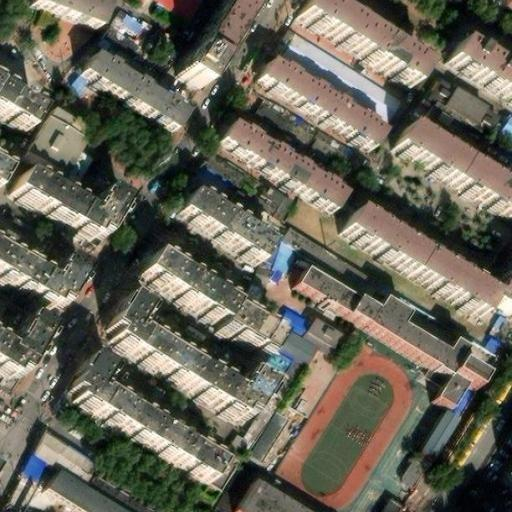building: (98, 293, 270, 423), (62, 359, 224, 485), (334, 202, 512, 312), (337, 297, 474, 405), (213, 121, 345, 215), (388, 125, 512, 225), (254, 59, 380, 152), (291, 0, 421, 87), (285, 34, 401, 120), (394, 386, 470, 492), (3, 165, 117, 234), (77, 52, 182, 126), (132, 249, 231, 324), (170, 189, 266, 261), (176, 0, 252, 90), (25, 113, 90, 183), (0, 246, 81, 302), (444, 41, 512, 104), (215, 303, 276, 356), (0, 312, 46, 377), (95, 3, 149, 57), (32, 434, 90, 482), (290, 267, 349, 313), (45, 476, 113, 512), (248, 415, 287, 464), (189, 154, 232, 197), (0, 87, 39, 134), (273, 331, 314, 369), (233, 486, 290, 512), (447, 94, 486, 129), (63, 150, 97, 186), (264, 240, 296, 278), (275, 307, 308, 338), (384, 494, 411, 512), (73, 73, 92, 92), (502, 472, 512, 497)
